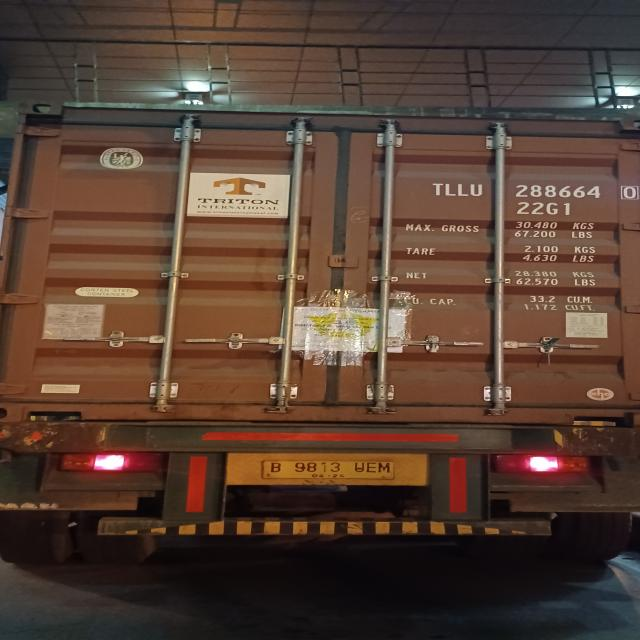seal: (542, 338, 559, 364), (428, 338, 438, 354)
